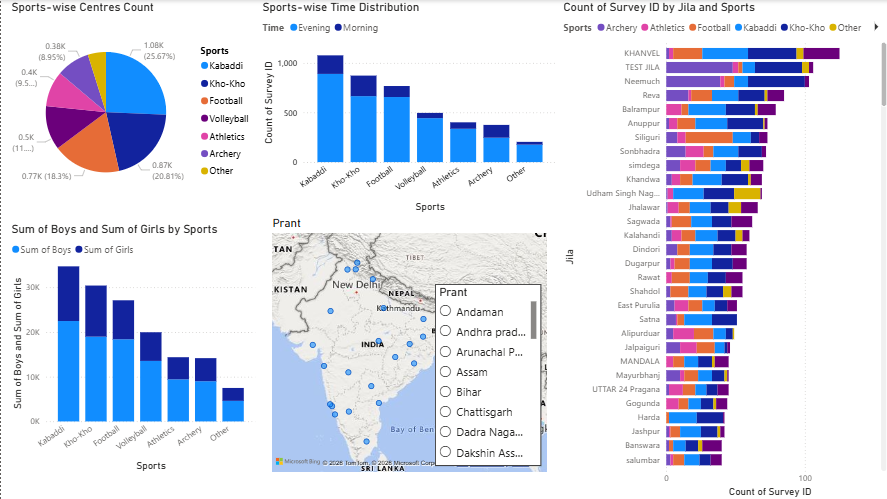

This screenshot's page, from the dashboard's own definition file:
{"tool":"powerbi","page":{"name":"Page 1","canvas":[1280,720],"ordinal":0},"visuals":[{"type":"pieChart","title":"Sports-wise Centres Count","fields":{"Y":["CountNonNull(Worksheet.Survey ID)"],"Category":["Worksheet.Sports"]},"box":[10.1,0,361.2,304],"z":0},{"type":"columnChart","fields":{"Category":["Worksheet.Sports"],"Y":["Sum(Worksheet.Boys)","Sum(Worksheet.Girls)"]},"box":[10.1,319.2,361.2,364.5],"z":1},{"type":"columnChart","title":"Sports-wise Time Distribution","fields":{"Category":["Worksheet.Sports"],"Y":["CountNonNull(Worksheet.Survey ID)"],"Series":["Worksheet.Time"]},"box":[371.2,0,433.4,310.8],"z":2},{"type":"barChart","fields":{"Category":["Worksheet.Jila"],"Series":["Worksheet.Sports"],"Y":["CountNonNull(Worksheet.Survey ID)"]},"box":[804.6,0,475.4,720.6],"z":3},{"type":"map","fields":{"Category":["Worksheet.Prant","Worksheet.Jila","Worksheet.Village"]},"box":[386.4,310.8,404.8,372.9],"z":4},{"type":"listSlicer","fields":{"Values":["Worksheet.Prant"]},"box":[625,409,152.6,262.1],"z":5}]}

Visuals, with their boxes in screenshot pixels (x1, y1, x2, y2), scaled from the page's 1280x720 canvas onto the 887x499 screenshot:
"Sports-wise Centres Count" pieChart: 7:0:257:211
columnChart - Worksheet.Sports x Sum(Worksheet.Boys): 7:221:257:474
"Sports-wise Time Distribution" columnChart: 257:0:558:215
barChart - Worksheet.Jila x Worksheet.Sports: 558:0:886:498
map - Worksheet.Prant x Worksheet.Jila: 268:215:548:474
listSlicer - Worksheet.Prant: 433:283:539:465
